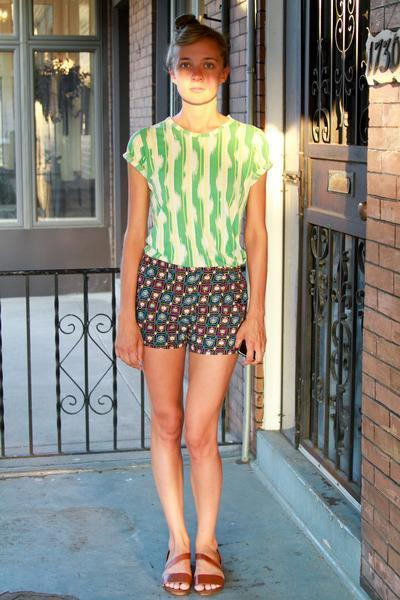shirt: (123, 108, 271, 268)
shoe: (163, 549, 231, 587)
shorts: (135, 252, 247, 358)
